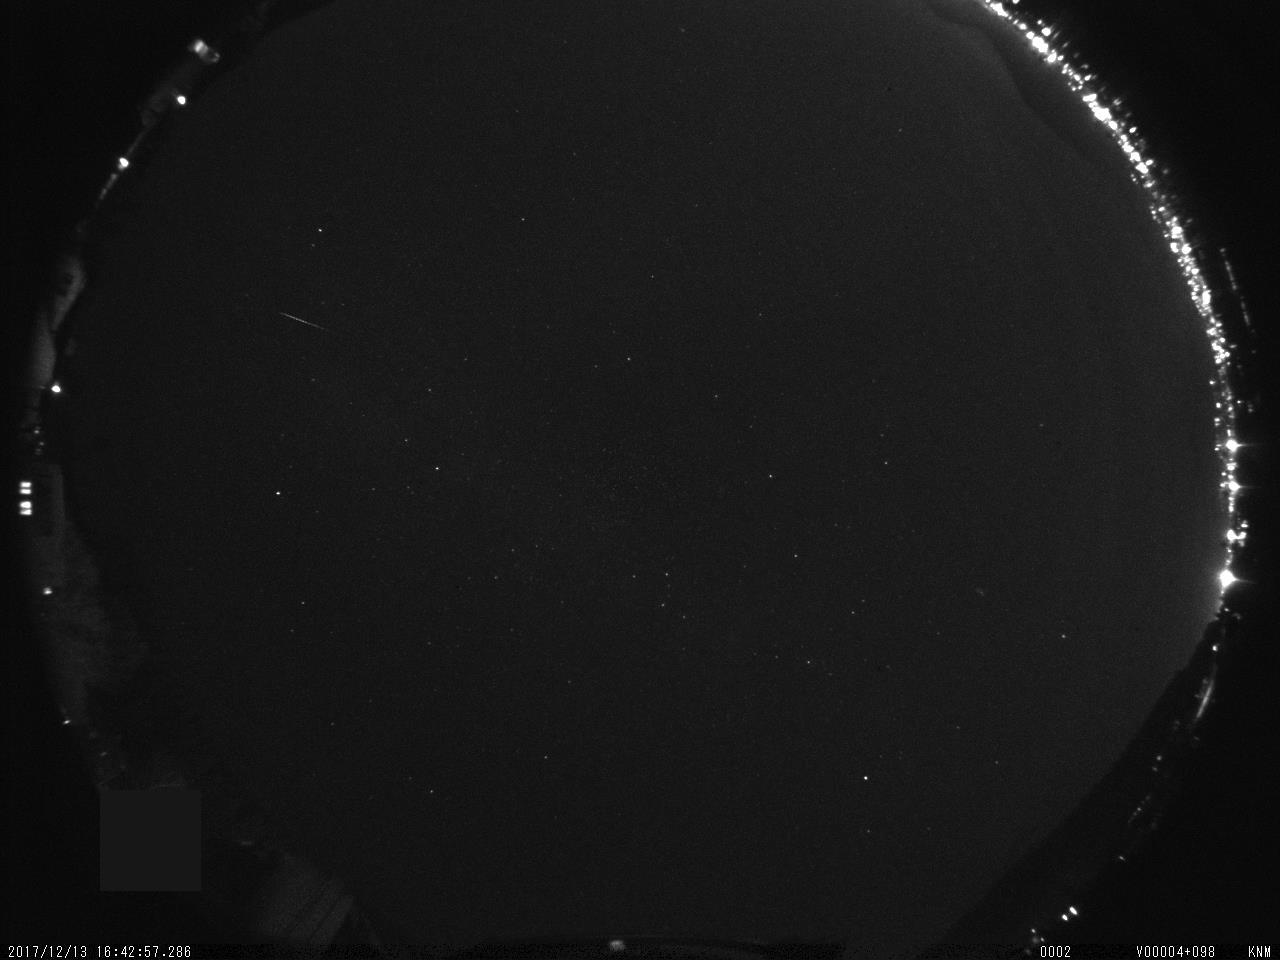meteor: (243, 296, 344, 345)
